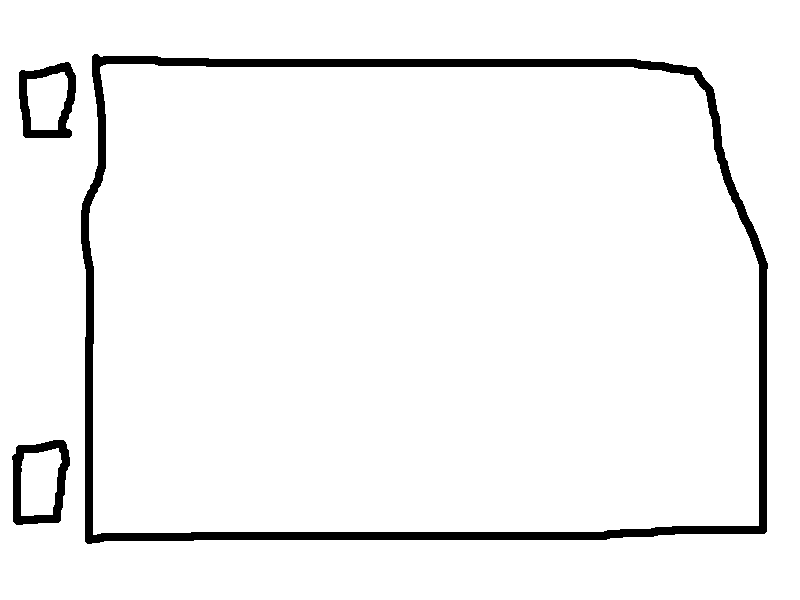rect: (79, 54, 780, 557), (7, 429, 73, 542), (14, 56, 78, 147)
